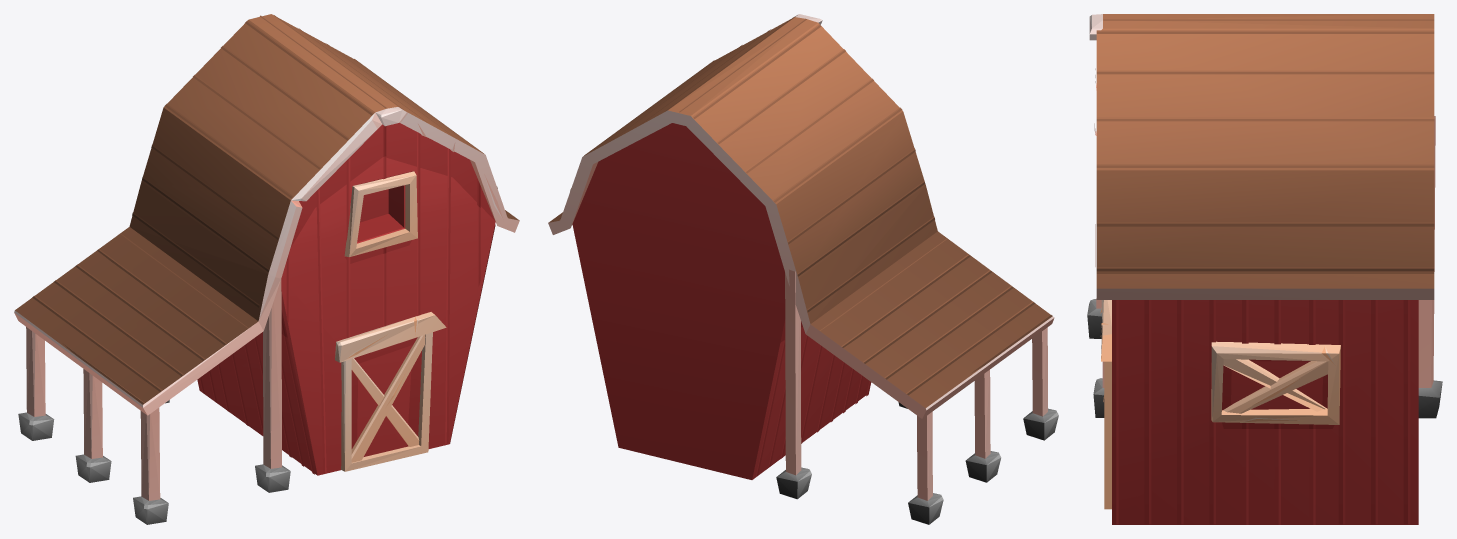
Rendered from barnlvl3.glb.
The picture shows the model from 3 angles, left to right: view 1: azimuth 30°, elevation 25°; view 2: azimuth 150°, elevation 25°; view 3: azimuth 270°, elevation 25°; orthographic projection. The views are drawn at different scales.
Parts seen in each view (by area): view 1: barnlvl3; view 2: barnlvl3; view 3: barnlvl3.
Boxes of the visible parts, x1,y1,x2,y2 form: barnlvl3: (14, 14, 519, 524); barnlvl3: (548, 14, 1058, 524); barnlvl3: (1087, 14, 1442, 524).
Size of the model in its own units: 7.72 by 6.93 by 4.82.
1 material, 1 textured.
